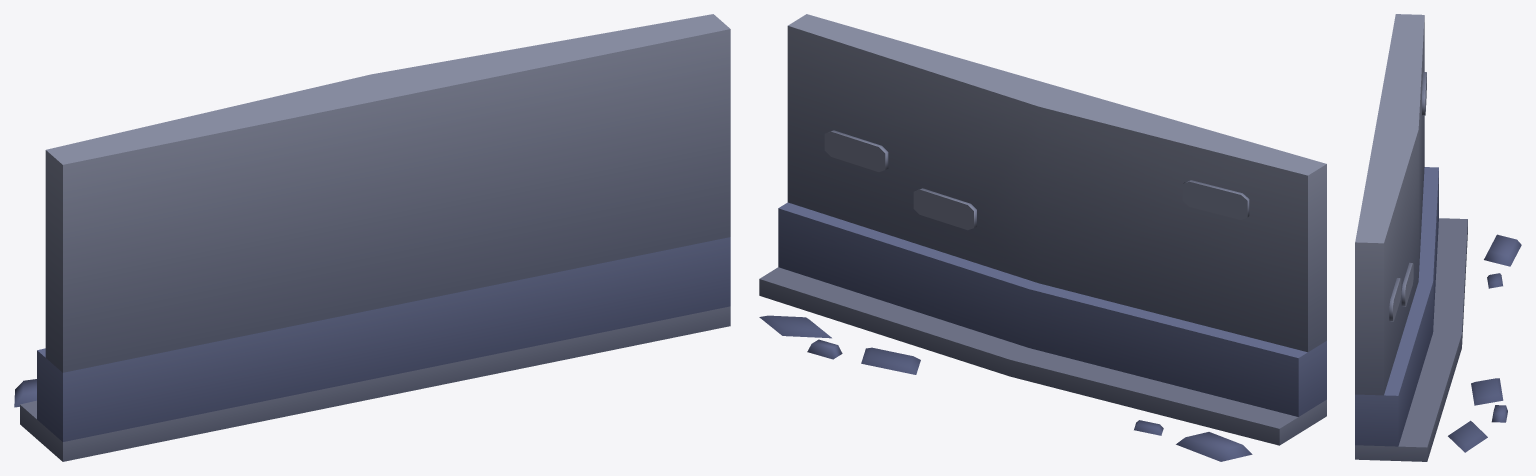
The model's file is template-wall.010.001_lev1.glb.
The picture shows the model from 3 angles, left to right: view 1: azimuth 30°, elevation 25°; view 2: azimuth 150°, elevation 25°; view 3: azimuth 270°, elevation 25°; orthographic projection. The views are drawn at different scales.
Visible parts, largest first — view 1: template-wall.010.001_lev1; view 2: template-wall.010.001_lev1; view 3: template-wall.010.001_lev1.
Boxes of the visible parts, x1=… form: template-wall.010.001_lev1: x1=14, y1=14, x2=730, y2=461; template-wall.010.001_lev1: x1=759, y1=14, x2=1326, y2=461; template-wall.010.001_lev1: x1=1355, y1=14, x2=1521, y2=461.
Bounding box in the file's own units: 12.06 × 5.3 × 3.68.
Materials: 1 (1 with a texture image).
